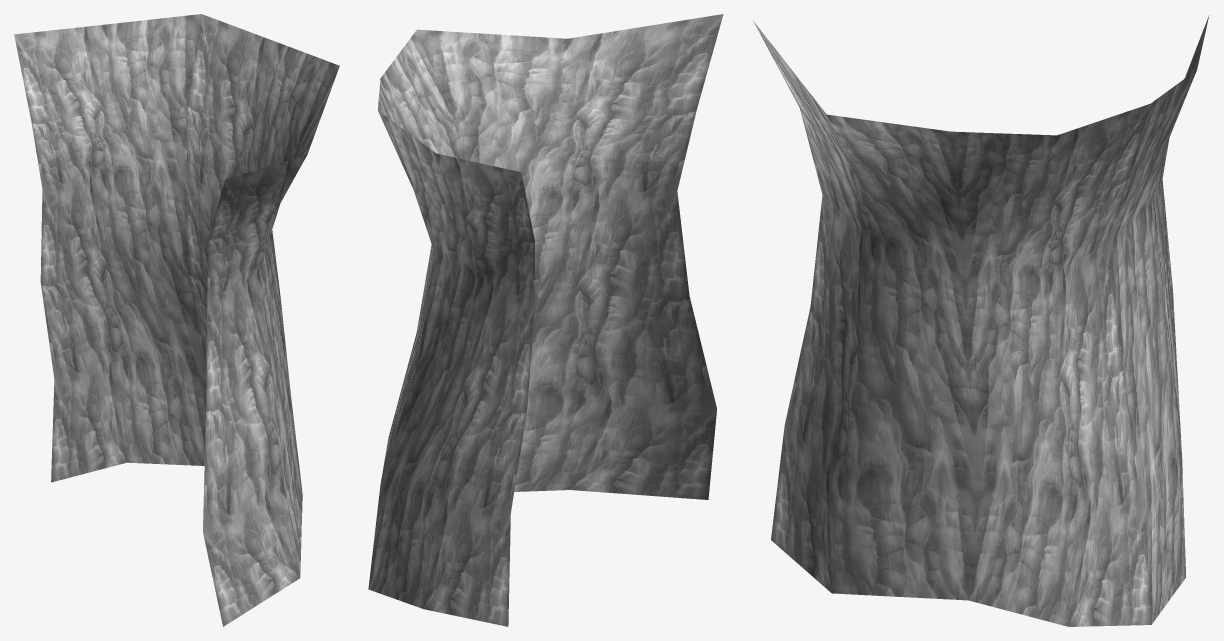
Rendered from SWORDLIGHT20_PS-AREA03_59.fbx.
3 views of the same model, side by side, from view 1: azimuth 30°, elevation 25°; view 2: azimuth 150°, elevation 25°; view 3: azimuth 270°, elevation 25° (orthographic). The views are drawn at different scales.
Visible parts, largest first — view 1: SWORDLIGHT20_PS-AREA03_59; view 2: SWORDLIGHT20_PS-AREA03_59; view 3: SWORDLIGHT20_PS-AREA03_59.
Boxes of the visible parts, x1,y1,x2,y2 form: SWORDLIGHT20_PS-AREA03_59: [14, 14, 339, 626]; SWORDLIGHT20_PS-AREA03_59: [368, 14, 723, 626]; SWORDLIGHT20_PS-AREA03_59: [753, 15, 1209, 626].
Bounding box in the file's own units: 102349 × 209764 × 168056.
Materials: 1 (1 with a texture image).
